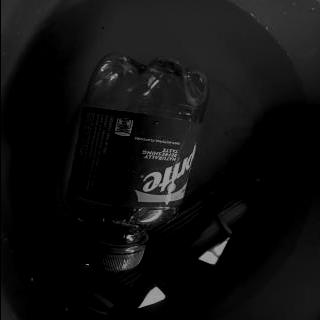bottle: (62, 52, 210, 272)
